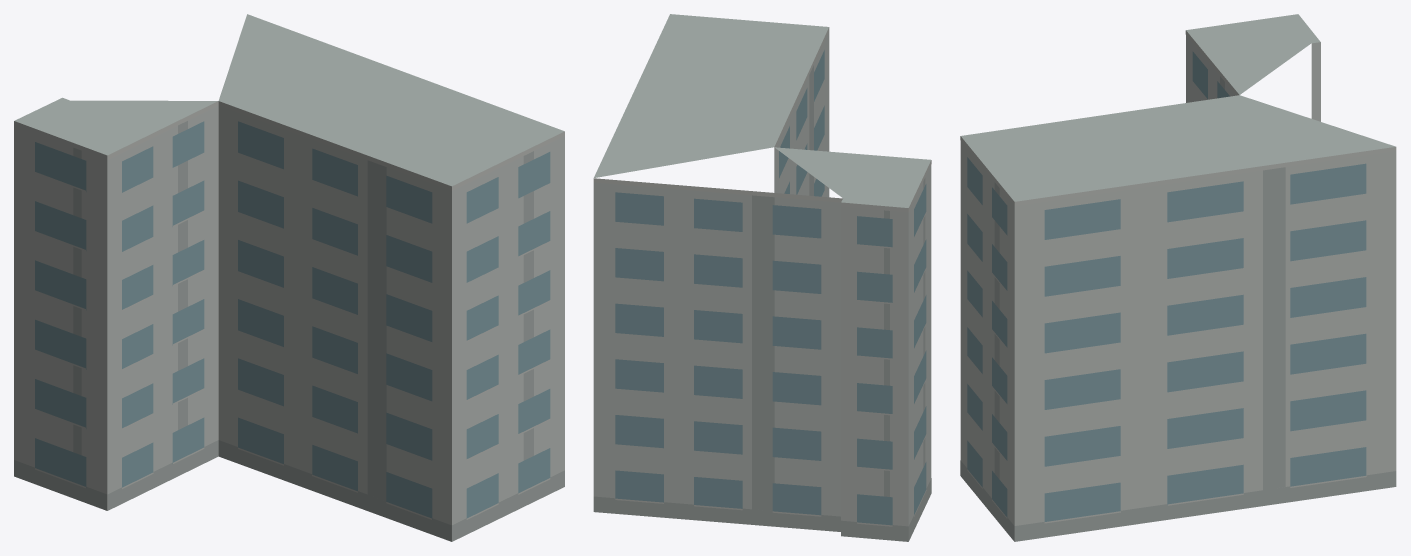
Rendered from survey-upis-33021614.glb.
3 renders of one model, left to right at view 1: azimuth 30°, elevation 25°; view 2: azimuth 150°, elevation 25°; view 3: azimuth 270°, elevation 25°, orthographic. The views are drawn at different scales.
Visible parts, largest first — view 1: survey-upis-33021614.tmp; view 2: survey-upis-33021614.tmp; view 3: survey-upis-33021614.tmp.
Part boxes in pixels (<box>): survey-upis-33021614.tmp: <box>14,14,564,541</box>; survey-upis-33021614.tmp: <box>593,14,931,541</box>; survey-upis-33021614.tmp: <box>960,14,1396,541</box>.
Size of the model in its own units: 22.16 by 18.7 by 21.73.
